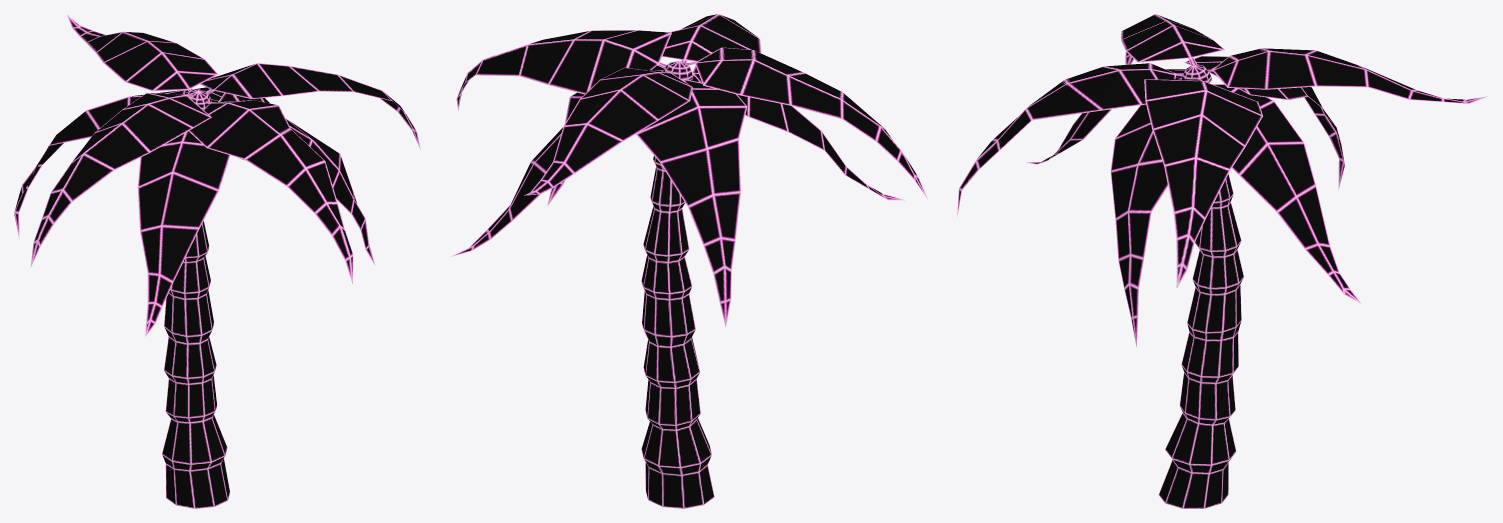
Rendered from palm8.gltf.
3 renders of one model, left to right at view 1: azimuth 30°, elevation 25°; view 2: azimuth 150°, elevation 25°; view 3: azimuth 270°, elevation 25°, orthographic. The views are drawn at different scales.
Visible parts, largest first — view 1: tronc, Feuille_5, Feuille_2, Feuille_1, Feuille_8, Feuille_6, Feuille_4, Feuille_7; view 2: tronc, Feuille_4, Feuille_8, Feuille_6, Feuille_1, Feuille_2, Feuille_5, Feuille_3; view 3: tronc, Feuille_6, Feuille_3, Feuille_7, Feuille_8, Feuille_2, Feuille_1, Feuille_4, Feuille_5.
Part boxes in pixels (x1,y1,x2,y2): tronc: [162, 89, 229, 508]; Feuille_5: [137, 131, 230, 336]; Feuille_2: [189, 100, 353, 284]; Feuille_1: [30, 93, 211, 267]; Feuille_8: [66, 14, 217, 91]; Feuille_6: [200, 63, 420, 149]; Feuille_4: [14, 90, 185, 239]; Feuille_7: [218, 93, 375, 265]; tronc: [641, 61, 714, 508]; Feuille_4: [636, 78, 747, 327]; Feuille_8: [524, 67, 692, 195]; Feuille_6: [456, 30, 671, 110]; Feuille_1: [684, 47, 927, 199]; Feuille_2: [662, 14, 761, 63]; Feuille_5: [692, 65, 905, 200]; Feuille_3: [450, 127, 562, 256]; tronc: [1158, 64, 1243, 508]; Feuille_6: [1144, 78, 1262, 288]; Feuille_3: [1212, 84, 1361, 303]; Feuille_7: [1110, 104, 1167, 346]; Feuille_8: [1208, 48, 1487, 103]; Feuille_2: [957, 63, 1183, 216]; Feuille_1: [1121, 14, 1224, 65]; Feuille_4: [1184, 56, 1344, 189]; Feuille_5: [1026, 69, 1185, 164].
Bounding box in the file's own units: 14.57 × 14.02 × 15.22.
Materials: 4 (4 with a texture image).
